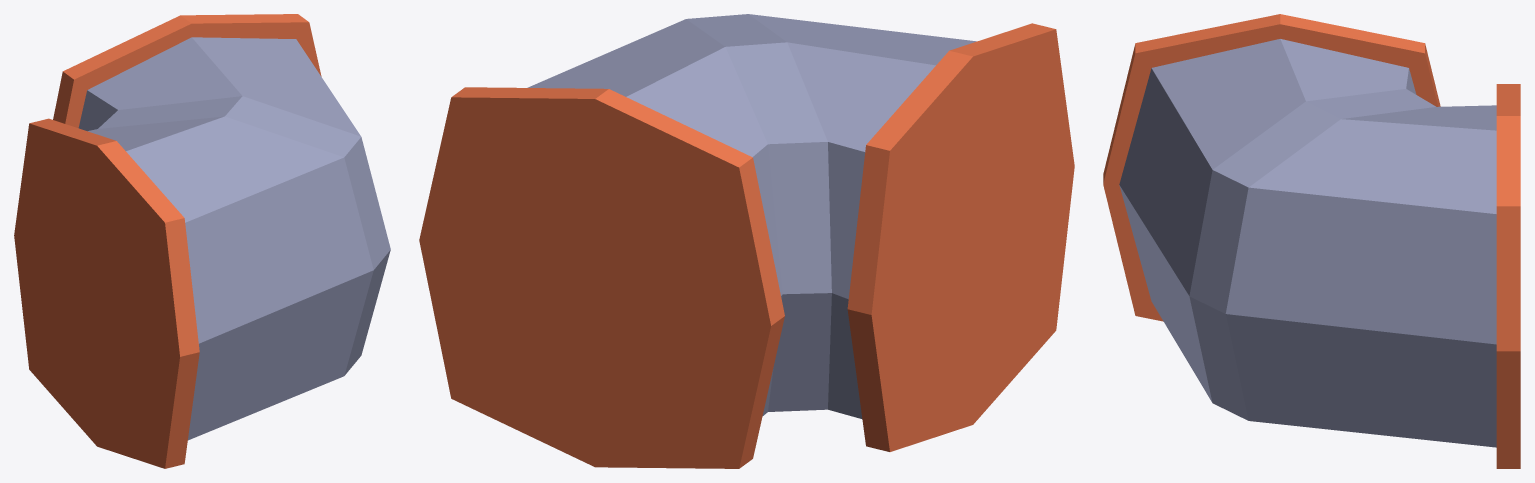
File: Connector_Turn_02.fbx
The picture shows the model from 3 angles, left to right: view 1: azimuth 30°, elevation 25°; view 2: azimuth 150°, elevation 25°; view 3: azimuth 270°, elevation 25°; orthographic projection. The views are drawn at different scales.
Parts seen in each view (by area): view 1: Connector_L_LOD0; view 2: Connector_L_LOD0; view 3: Connector_L_LOD0.
Part boxes in pixels (left/top/right/bottom): Connector_L_LOD0: left=14, top=14, right=390, bottom=468; Connector_L_LOD0: left=419, top=14, right=1074, bottom=468; Connector_L_LOD0: left=1103, top=14, right=1520, bottom=468.
Size of what is drawn, in the model's own units: 260 by 220 by 259.
